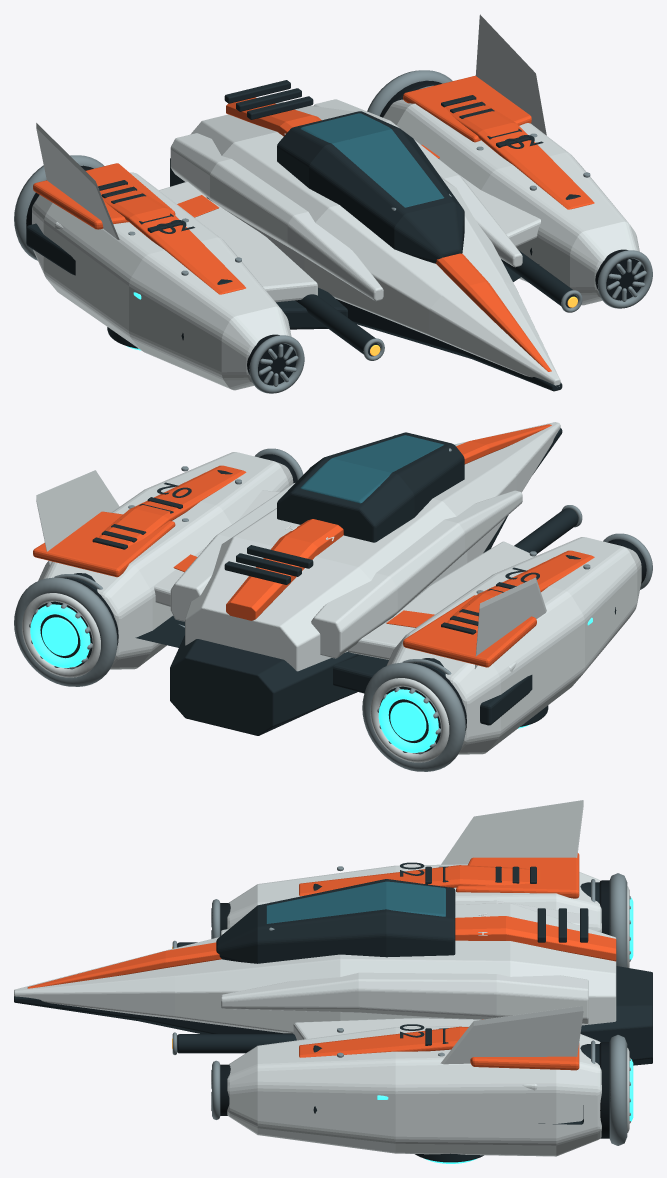
Rendered from wraith.glb.
The picture shows the model from 3 angles, top to bottom: view 1: azimuth 30°, elevation 25°; view 2: azimuth 150°, elevation 25°; view 3: azimuth 270°, elevation 25°; orthographic projection. The views are drawn at different scales.
Parts seen in each view (by area): view 1: Ceramic_Paint.001, Carbon_Composite.001, Livery_Paint.001, Titanium.001, Canopy_Glass.001, Airbrake_R, Recesses.001, Airbrake_L; view 2: Ceramic_Paint.001, Carbon_Composite.001, Livery_Paint.001, Titanium.001, Ion_Emission.001, Canopy_Glass.001, Airbrake_R, Airbrake_L, Recesses.001; view 3: Ceramic_Paint.001, Carbon_Composite.001, Livery_Paint.001, Titanium.001, Canopy_Glass.001, Airbrake_L, Recesses.001, Airbrake_R, Ion_Emission.001.
Boxes of the visible parts, x1,y1,x2,y2 form: Ceramic_Paint.001: (32,14,639,390); Carbon_Composite.001: (26,80,580,391); Livery_Paint.001: (100,97,594,371); Titanium.001: (14,70,652,393); Canopy_Glass.001: (300,113,444,207); Airbrake_R: (403,75,531,142); Recesses.001: (26,80,644,385); Airbrake_L: (33,163,175,229); Ceramic_Paint.001: (22,422,641,762); Carbon_Composite.001: (31,428,616,753); Livery_Paint.001: (93,424,594,635); Titanium.001: (14,435,652,771); Ion_Emission.001: (30,604,592,752); Canopy_Glass.001: (300,435,443,503); Airbrake_R: (33,511,175,577); Airbrake_L: (403,595,536,667); Recesses.001: (67,454,646,730); Ceramic_Paint.001: (14,800,629,1156); Carbon_Composite.001: (14,862,652,1162); Livery_Paint.001: (27,865,616,1057); Titanium.001: (172,866,630,1145); Canopy_Glass.001: (266,881,445,923); Airbrake_L: (456,853,579,898); Recesses.001: (220,880,609,1138); Airbrake_R: (470,1043,579,1070); Ion_Emission.001: (377,897,633,1163).
Bounding box in the file's own units: 5.56 × 2.09 × 6.95.
